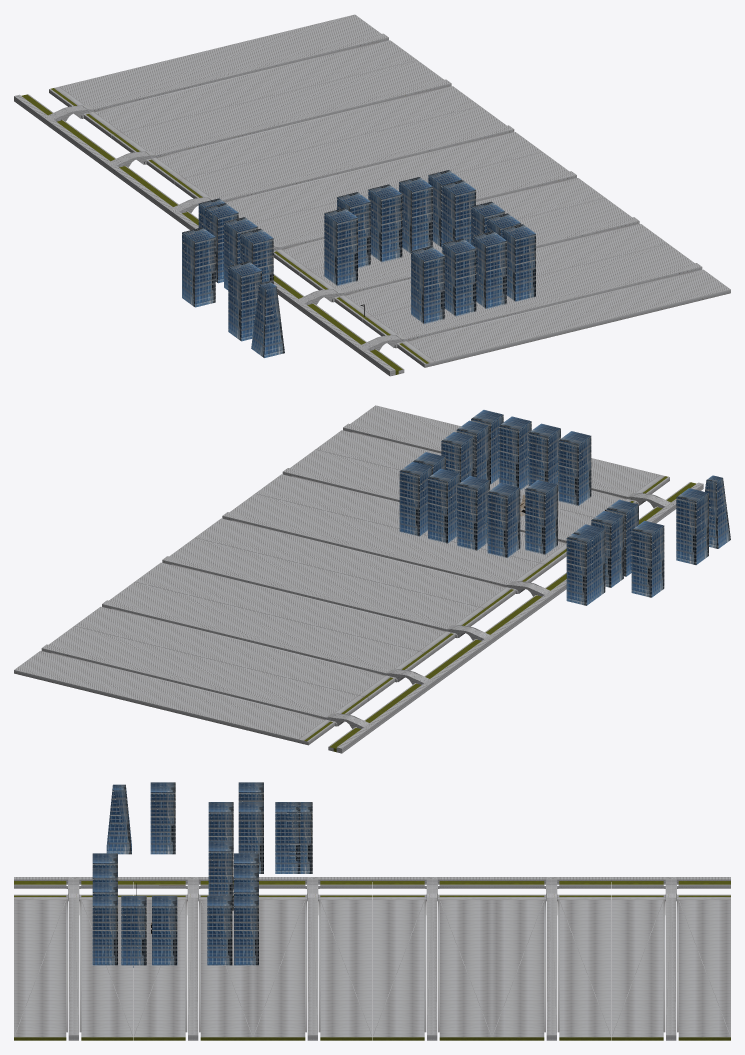
File: Lisch.glb
3 views of the same model, one above another, from view 1: azimuth 30°, elevation 25°; view 2: azimuth 150°, elevation 25°; view 3: azimuth 270°, elevation 25° (orthographic). The views are drawn at different scales.
Parts seen in each view (by area): view 1: Lidan (×12), Cube.003, Cube.013, Cube.008, Cube.010, Cube.014, Cube.015, Cube.016, Cube.001, Cube.011, Cube.002, Cube.017 (+6 smaller); view 2: Lidan (×12), Cube.003, Cube.001, Cube.009, Cube.013, Cube.008, Cube.010, Cube.011, Cube.012, Cube.015, Cube.007, Cube.014 (+7 smaller); view 3: Lidan (×12), Cube.001, Cube.006, Cube.018, Cube.016, Cube.017, Cube.019, Cube.012, Cube.008, Cube.004, Cube.002, Cube.007 (+2 smaller).
Boxes of the visible parts, <box> form: Lidan (×12): <box>14,14,730,376</box>; Cube.003: <box>182,227,215,307</box>; Cube.013: <box>411,246,444,323</box>; Cube.008: <box>324,208,357,285</box>; Cube.010: <box>368,184,402,262</box>; Cube.014: <box>442,238,476,316</box>; Cube.015: <box>473,231,506,308</box>; Cube.016: <box>502,224,535,301</box>; Cube.001: <box>228,261,261,341</box>; Cube.011: <box>399,177,432,253</box>; Cube.002: <box>251,281,284,357</box>; Cube.017: <box>442,180,475,243</box>; Lidan (×12): <box>14,405,703,753</box>; Cube.003: <box>631,520,664,597</box>; Cube.001: <box>676,488,708,564</box>; Cube.009: <box>487,483,520,557</box>; Cube.013: <box>558,431,591,505</box>; Cube.008: <box>525,480,557,554</box>; Cube.010: <box>457,475,489,550</box>; Cube.011: <box>428,468,460,543</box>; Cube.012: <box>399,462,432,536</box>; Cube.015: <box>499,416,531,490</box>; Cube.007: <box>566,530,598,605</box>; Cube.014: <box>528,423,560,491</box>; Lidan (×12): <box>14,877,730,1040</box>; Cube.001: <box>150,782,175,854</box>; Cube.006: <box>275,802,300,873</box>; Cube.018: <box>121,896,146,967</box>; Cube.016: <box>92,896,117,965</box>; Cube.017: <box>207,896,232,965</box>; Cube.019: <box>152,896,177,965</box>; Cube.012: <box>234,896,258,965</box>; Cube.008: <box>208,841,233,910</box>; Cube.004: <box>238,802,263,873</box>; Cube.002: <box>106,784,131,854</box>; Cube.007: <box>287,802,312,873</box>.
Size of the model in its own units: 6973 by 1093 by 10863.
Materials: 8 (5 with a texture image).
